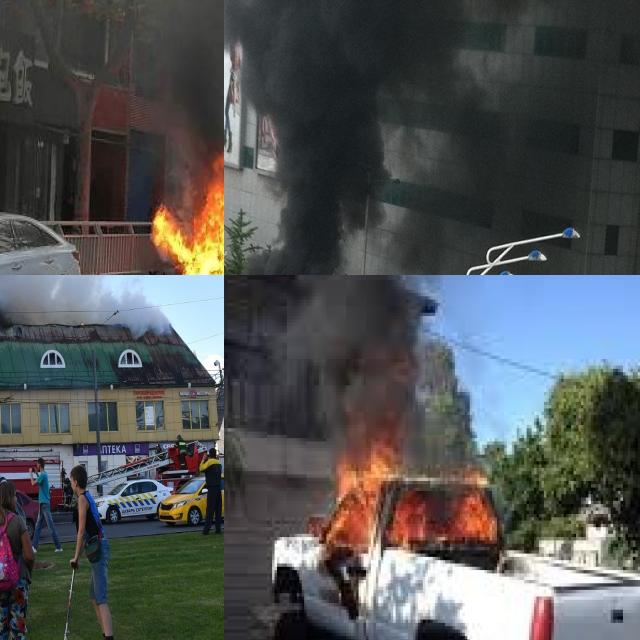fire: (304, 428, 510, 577), (149, 149, 224, 275)
smoke: (224, 0, 533, 275), (279, 275, 452, 448), (157, 0, 224, 145)
